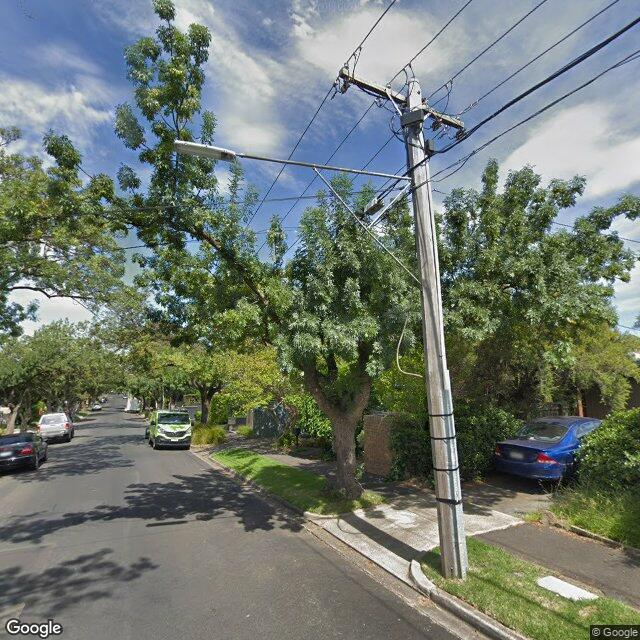crossarm: (331, 47, 482, 141)
streetlight: (172, 138, 412, 181)
timber-pole: (406, 78, 468, 580)
